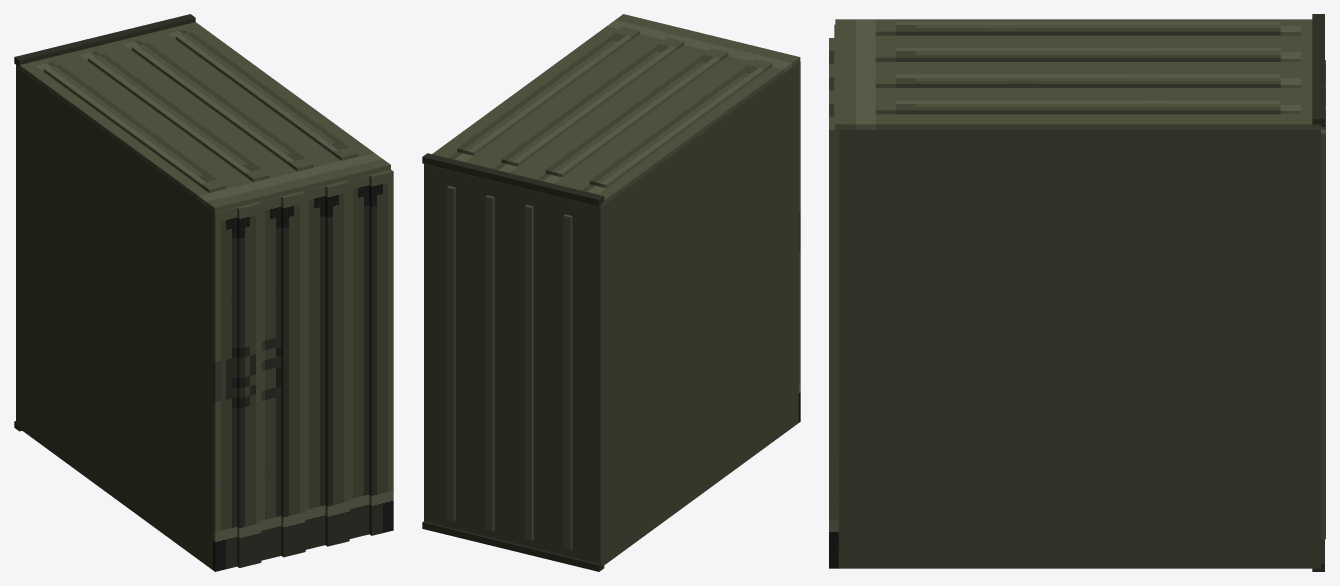
The model's file is CMU3DSectionAU14ContainerMK6Middle.glb.
3 renders of one model, left to right at view 1: azimuth 30°, elevation 25°; view 2: azimuth 150°, elevation 25°; view 3: azimuth 270°, elevation 25°, orthographic. The views are drawn at different scales.
Visible parts, largest first — view 1: closed cargo shell, source-painted roof, painted corrugation 6, painted corrugation 4, painted corrugation 8, painted corrugation 2, painted corrugation 1, painted corrugation 3, painted corrugation 5, painted corrugation 7, source-painted roof ridge 4, source-painted roof ridge 1 (+3 smaller); view 2: closed cargo shell, source-painted roof, rear corrugation (×4), rear horizontal frame (×2), source-painted roof ridge 2, source-painted roof ridge 1, source-painted roof ridge 3, source-painted roof ridge 4, painted corrugation 1; view 3: closed cargo shell, source-painted roof, source-painted roof ridge 1, source-painted roof ridge 4, source-painted roof ridge 2, source-painted roof ridge 3, painted corrugation 8, rear corrugation, rear horizontal frame.
Part boxes in pixels (x1,y1,x2,y2): closed cargo shell: (16,67,213,569); source-painted roof: (16,22,390,212); painted corrugation 6: (325,180,349,546); painted corrugation 4: (281,191,305,557); painted corrugation 8: (369,169,393,535); painted corrugation 2: (237,202,261,567); painted corrugation 1: (213,207,237,571); painted corrugation 3: (259,196,281,560); painted corrugation 5: (303,185,325,549); painted corrugation 7: (347,175,369,538); source-painted roof ridge 4: (175,32,357,160); source-painted roof ridge 1: (43,64,225,192); closed cargo shell: (424,63,798,566); source-painted roof: (424,14,800,207); rear corrugation (×4): (446,186,572,550); rear horizontal frame (×2): (422,153,604,571); source-painted roof ridge 2: (545,48,728,177); source-painted roof ridge 1: (589,59,772,188); source-painted roof ridge 3: (501,37,684,166); source-painted roof ridge 4: (457,27,639,155); painted corrugation 1: (798,61,800,422); closed cargo shell: (838,130,1320,568); source-painted roof: (835,19,1320,129); source-painted roof ridge 1: (875,21,1280,35); source-painted roof ridge 4: (875,100,1280,114); source-painted roof ridge 2: (875,48,1280,61); source-painted roof ridge 3: (875,74,1280,87); painted corrugation 8: (829,116,839,568); rear corrugation: (1321,129,1325,539); rear horizontal frame: (1312,14,1324,126).
Bounding box in the file's own units: 1 × 2.01 × 2.
11 materials, 8 textured.
